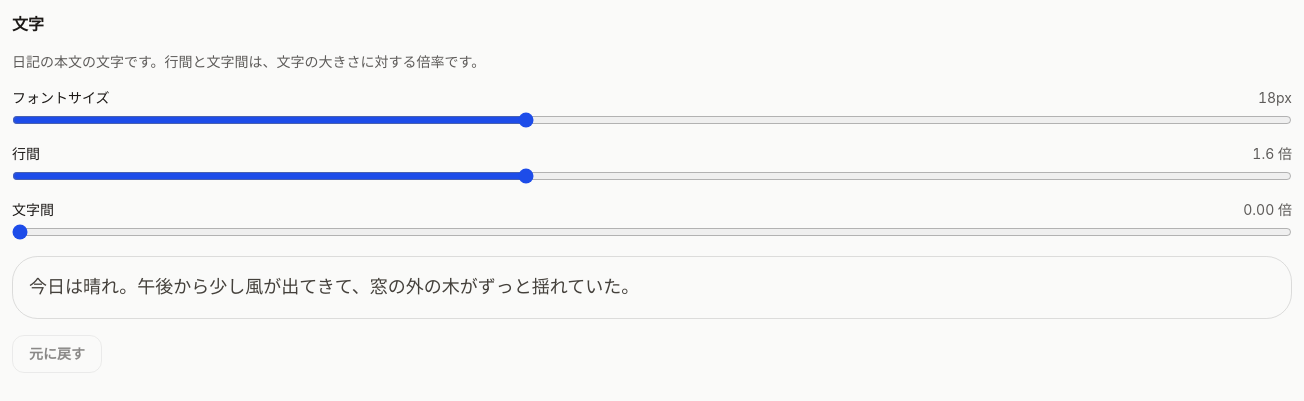
Scenario: each slider changes its own setting, and reset keeps the focus
This screenshot has width=1304, height=401.
Set the slider labelled "フォントサイズ" to "20": [778, 120] box [12, 112, 1292, 128]
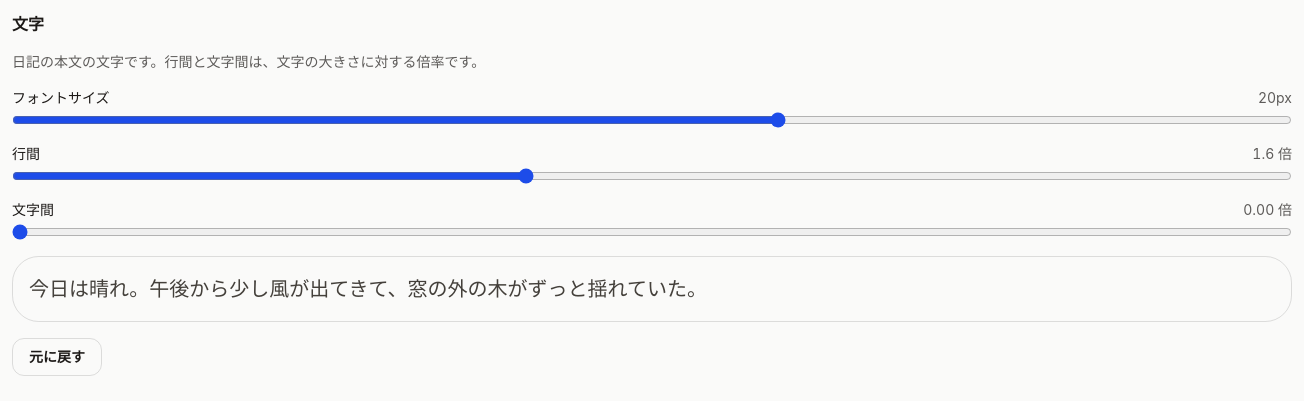
Set the slider labelled "行間" to "1.8": [778, 176] box [12, 168, 1292, 184]
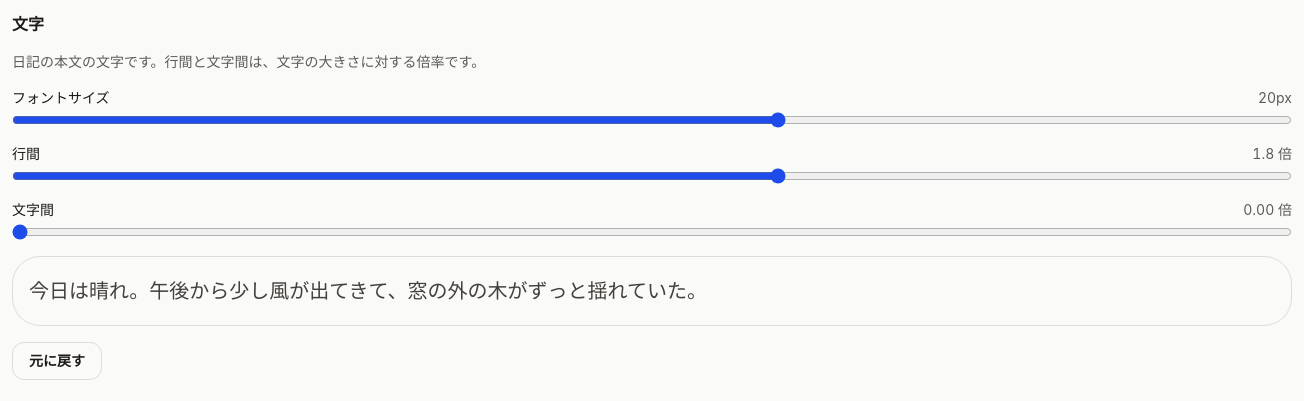
Set the slider labelled "文字間" to "0.05": [336, 232] box [12, 224, 1292, 240]
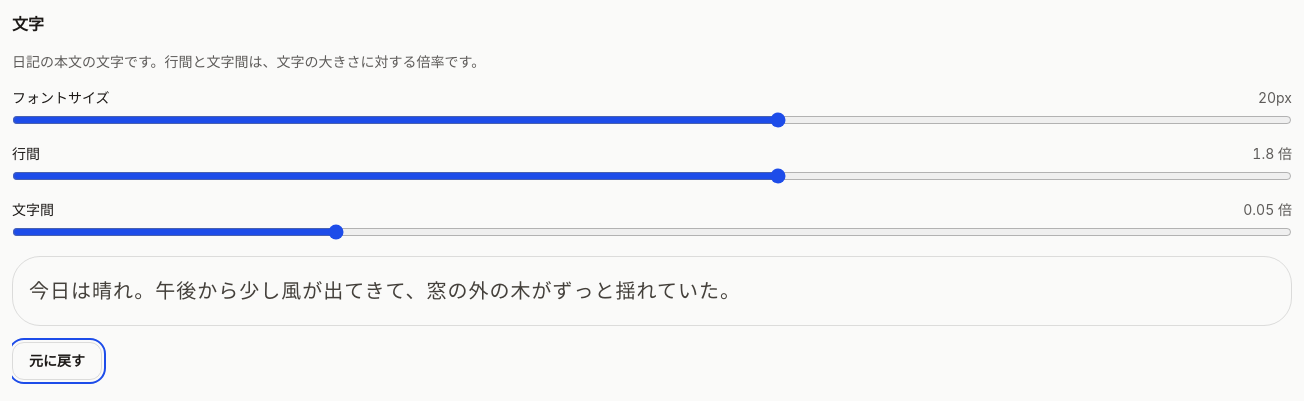
expect the slider labelled "行間" has attribute aria-valuetext="1.8 倍": met, box [12, 168, 1292, 184]
Click the button "元に戻す": [57, 361] box [12, 342, 102, 380]
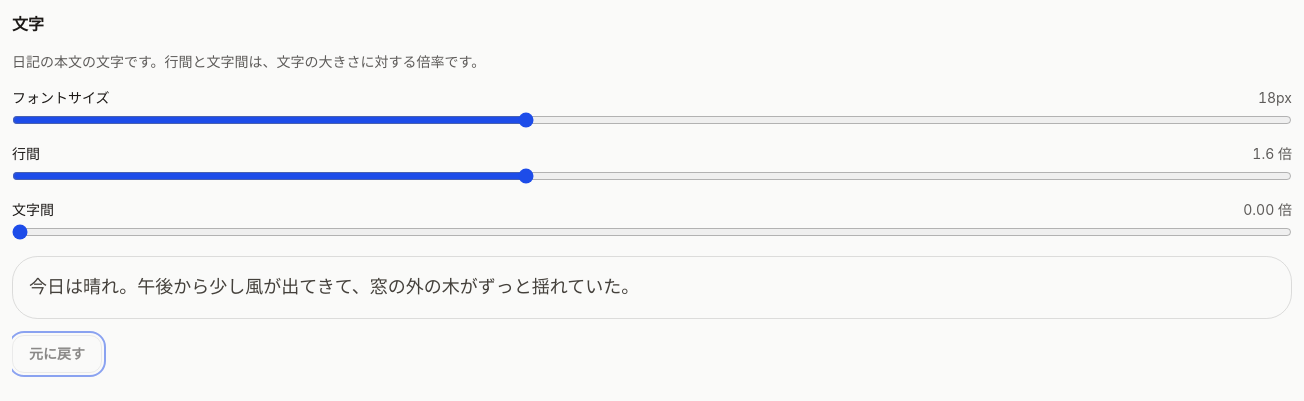
expect the button "元に戻す" is disabled: met, box [12, 335, 102, 373]
